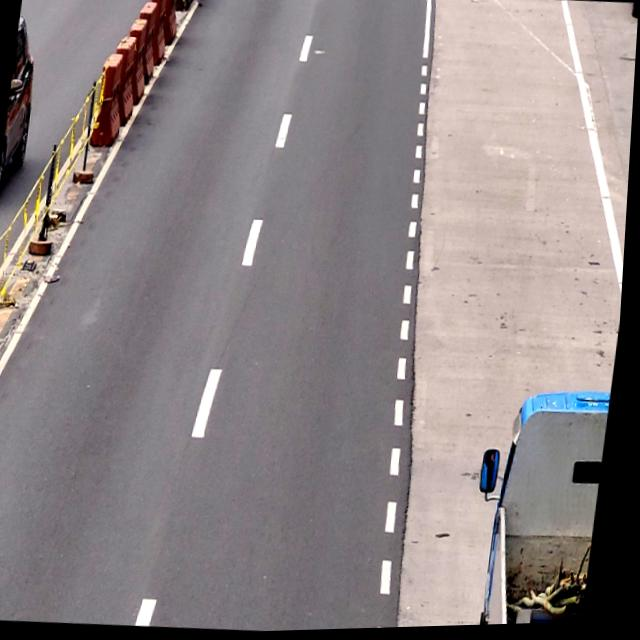Truck: (483, 393, 615, 628)
